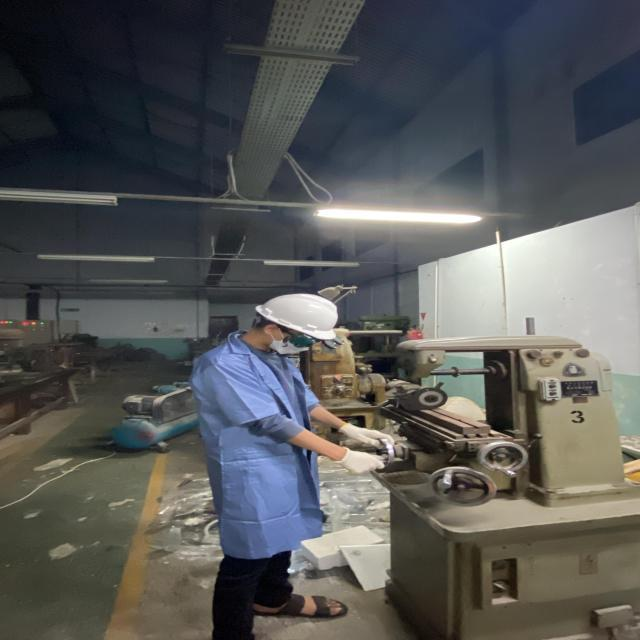glasses: (280, 331, 347, 351)
